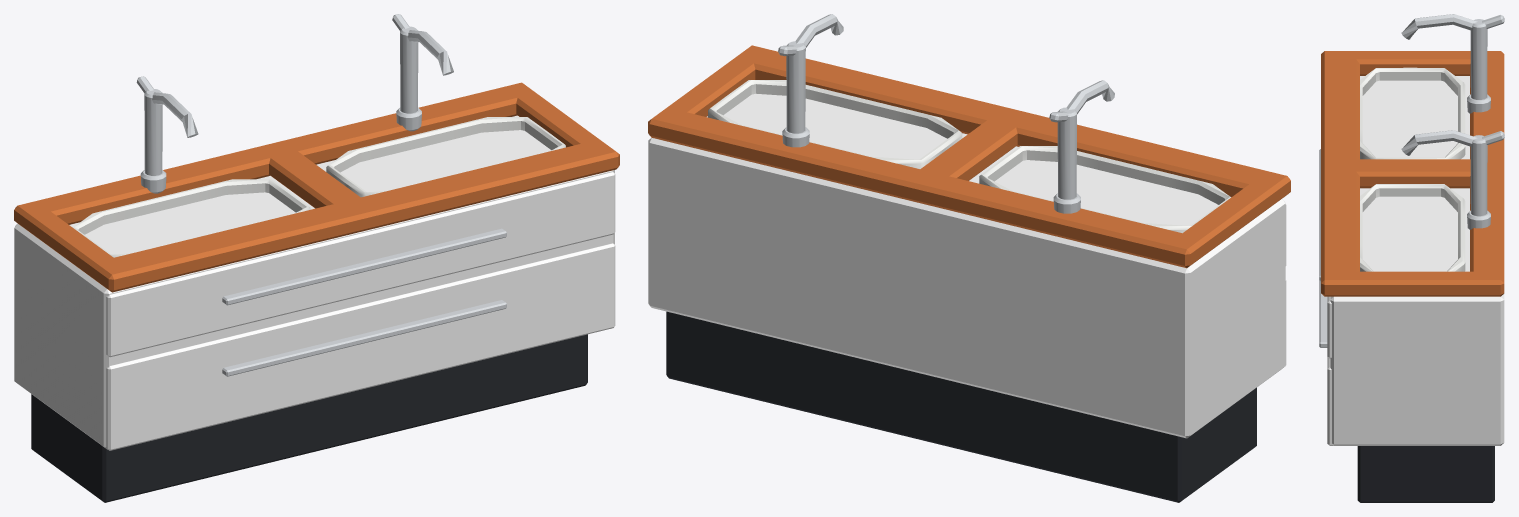
File: kids-basin-row.glb
3 renders of one model, left to right at view 1: azimuth 30°, elevation 25°; view 2: azimuth 150°, elevation 25°; view 3: azimuth 270°, elevation 25°, orthographic. The views are drawn at different scales.
Visible parts, largest first — view 1: kids-basin-row.tint, kids-basin-row.accent, kids-basin-row.graphite, kids-basin-row.chrome, kids-basin-row.ceramic; view 2: kids-basin-row.tint, kids-basin-row.accent, kids-basin-row.graphite, kids-basin-row.ceramic, kids-basin-row.chrome; view 3: kids-basin-row.tint, kids-basin-row.accent, kids-basin-row.graphite, kids-basin-row.chrome, kids-basin-row.ceramic.
Part boxes in pixels (<box>): kids-basin-row.tint: <box>14,115,615,450</box>; kids-basin-row.accent: <box>14,82,619,292</box>; kids-basin-row.graphite: <box>31,334,587,502</box>; kids-basin-row.chrome: <box>136,14,506,376</box>; kids-basin-row.ceramic: <box>73,117,565,257</box>; kids-basin-row.tint: <box>648,93,1286,438</box>; kids-basin-row.accent: <box>648,45,1290,268</box>; kids-basin-row.graphite: <box>666,311,1256,502</box>; kids-basin-row.ceramic: <box>708,80,1230,233</box>; kids-basin-row.chrome: <box>778,14,1114,213</box>; kids-basin-row.tint: <box>1327,76,1504,445</box>; kids-basin-row.accent: <box>1321,51,1504,296</box>; kids-basin-row.graphite: <box>1357,446,1494,502</box>; kids-basin-row.chrome: <box>1319,14,1504,347</box>; kids-basin-row.ceramic: <box>1360,67,1465,271</box>.
Size of the model in its own units: 1.2 by 0.7745 by 0.4052.
